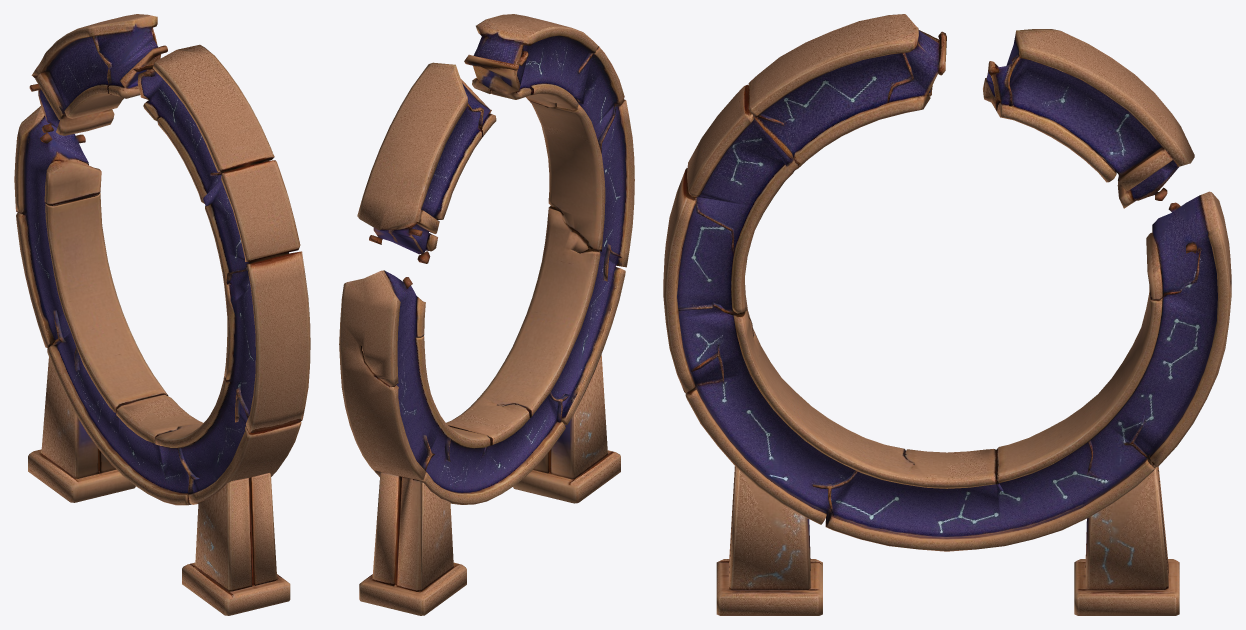
File: tripo_convert_e7e4d23e-a6f7-48aa-a0ef-a4f18e702328.fbx
3 renders of one model, left to right at view 1: azimuth 30°, elevation 25°; view 2: azimuth 150°, elevation 25°; view 3: azimuth 270°, elevation 25°, orthographic. The views are drawn at different scales.
Parts seen in each view (by area): view 1: tripo_node_e7e4d23e; view 2: tripo_node_e7e4d23e; view 3: tripo_node_e7e4d23e.
Part boxes in pixels (left/top/right/bottom): tripo_node_e7e4d23e: left=14, top=14, right=310, bottom=615; tripo_node_e7e4d23e: left=339, top=14, right=634, bottom=615; tripo_node_e7e4d23e: left=663, top=14, right=1231, bottom=615.
Size of the model in its own units: 0.1387 by 0.998 by 0.8965.
1 material, 1 textured.
